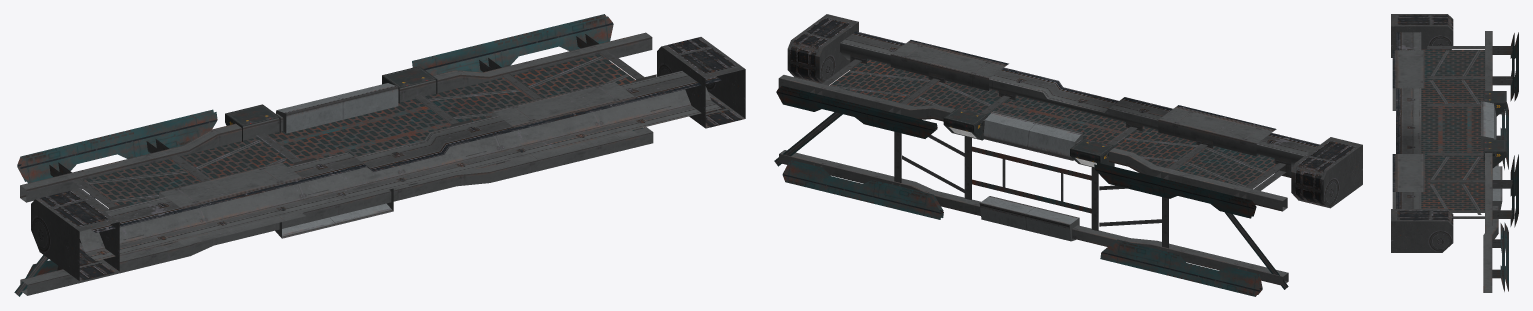
File: ARC0910086.fbx
3 views of the same model, side by side, from view 1: azimuth 30°, elevation 25°; view 2: azimuth 150°, elevation 25°; view 3: azimuth 270°, elevation 25° (orthographic). The views are drawn at different scales.
Parts seen in each view (by area): view 1: smARC0910086; view 2: smARC0910086; view 3: smARC0910086.
Part boxes in pixels (bbox=[...]): smARC0910086: bbox=[14, 14, 745, 296]; smARC0910086: bbox=[774, 14, 1362, 296]; smARC0910086: bbox=[1391, 14, 1518, 292].
Bounding box in the file's own units: 425 × 80.25 × 111.
Materials: 1 (1 with a texture image).
